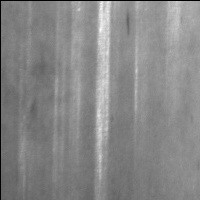scratches: (93, 1, 117, 182)
